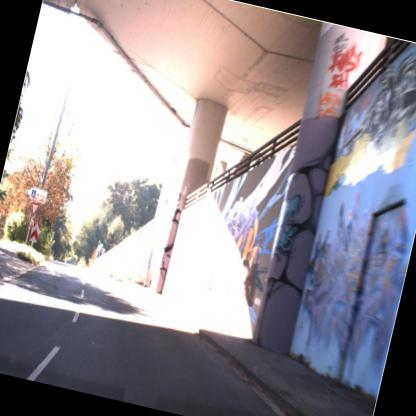other: (26, 197, 43, 218)
